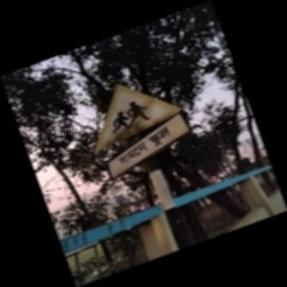School-in-front: (95, 85, 189, 179)
